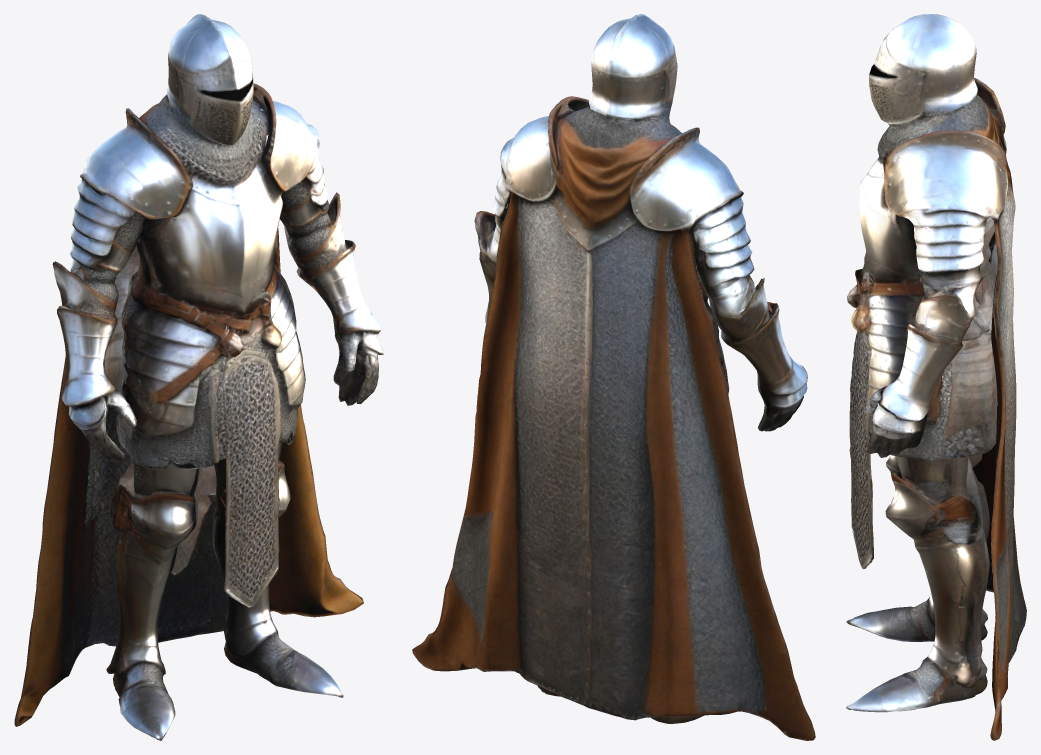
Rendered from medieval_knight.glb.
3 views of the same model, side by side, from view 1: azimuth 30°, elevation 25°; view 2: azimuth 150°, elevation 25°; view 3: azimuth 270°, elevation 25° (orthographic). The views are drawn at different scales.
Visible parts, largest first — view 1: Object_4; view 2: Object_4; view 3: Object_4.
Boxes of the visible parts, left/top/right/bottom form: Object_4: left=14, top=14, right=383, bottom=740; Object_4: left=412, top=14, right=815, bottom=740; Object_4: left=846, top=14, right=1026, bottom=740.
Size of the model in its own units: 1.17 by 2 by 0.5058.
1 material, 1 textured.
